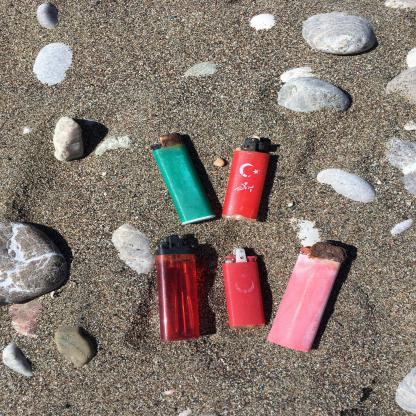diger: (242, 69, 354, 151), (134, 200, 227, 268), (136, 136, 224, 196), (235, 217, 344, 263), (248, 151, 331, 195)
